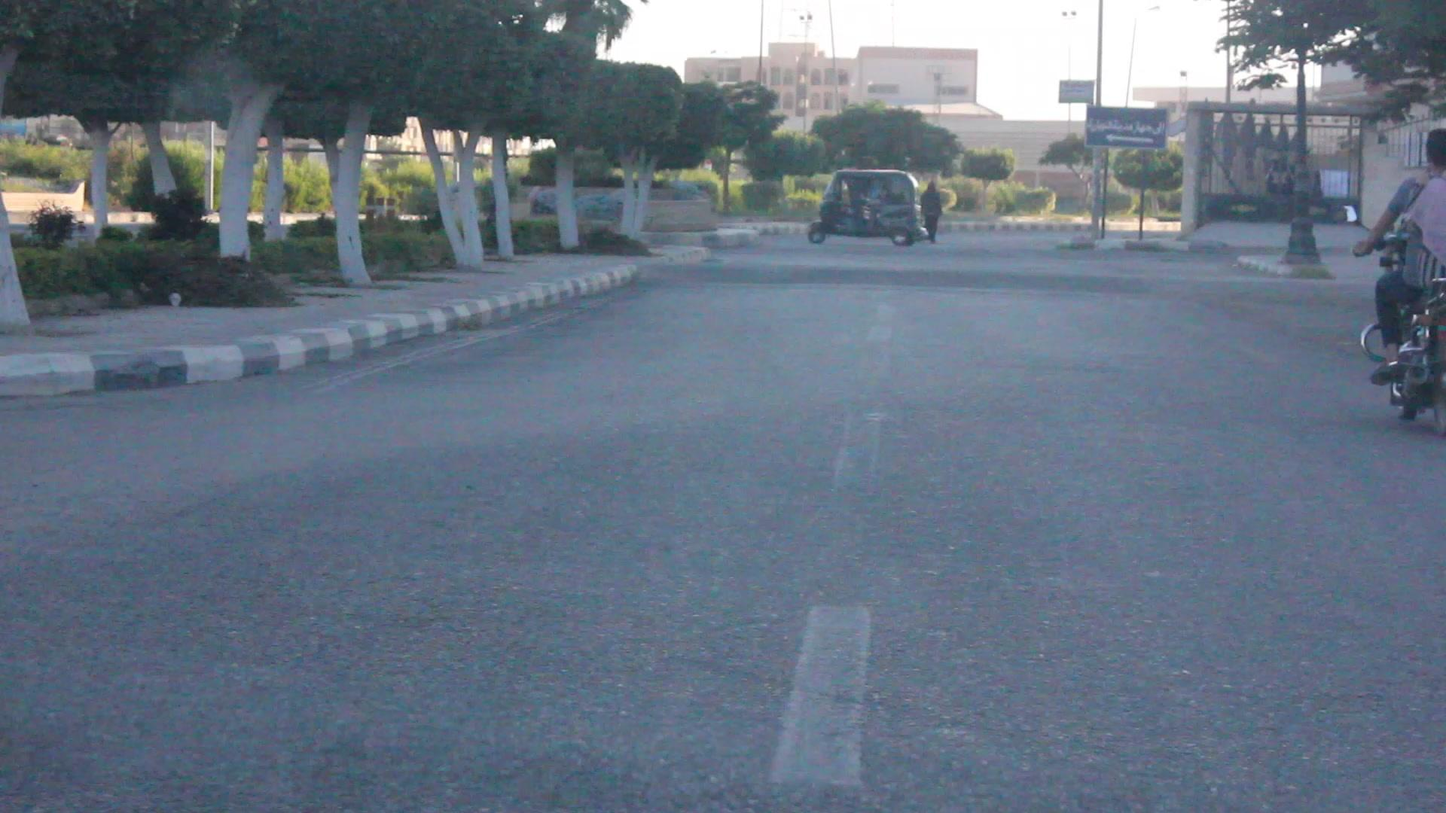Bump: (635, 258, 1207, 299)
